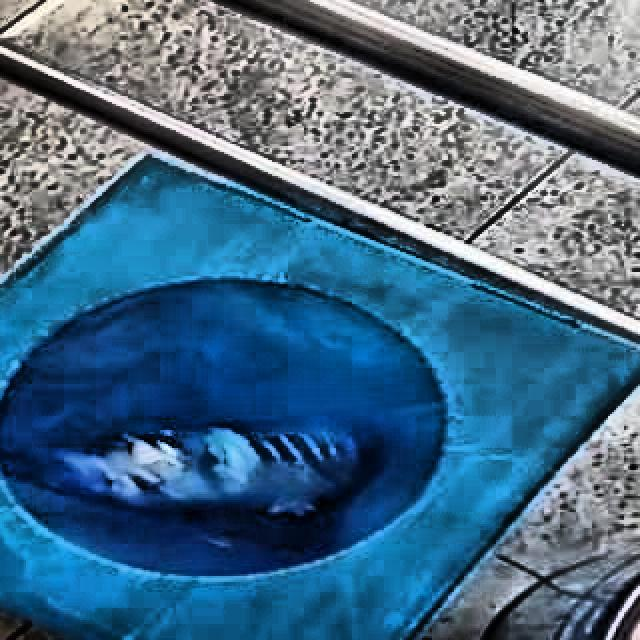plastic: (64, 428, 362, 510)
